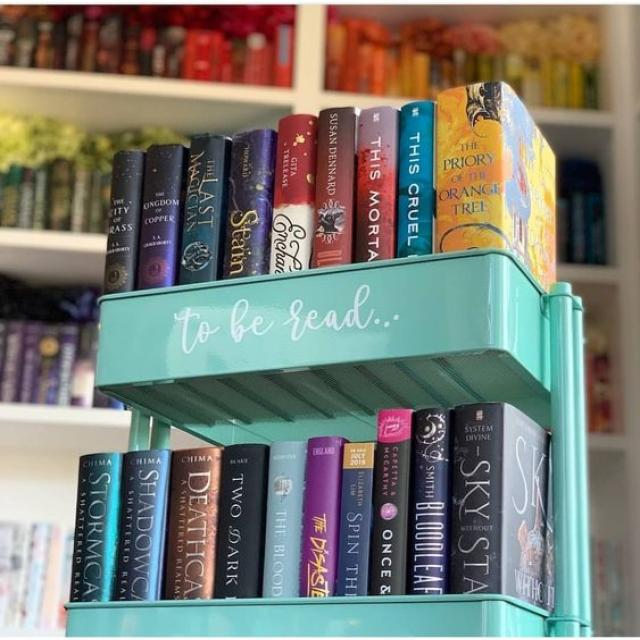book: (435, 81, 502, 253), (449, 403, 503, 593), (164, 446, 222, 599), (114, 450, 168, 600), (214, 443, 264, 598), (371, 409, 412, 596), (70, 454, 121, 602), (268, 115, 315, 274), (223, 129, 271, 279), (411, 408, 449, 595), (177, 138, 225, 284), (313, 106, 355, 268), (136, 144, 182, 290), (264, 440, 306, 597), (303, 436, 343, 596), (355, 106, 394, 263), (336, 443, 374, 595), (398, 102, 433, 257), (105, 152, 142, 293)
